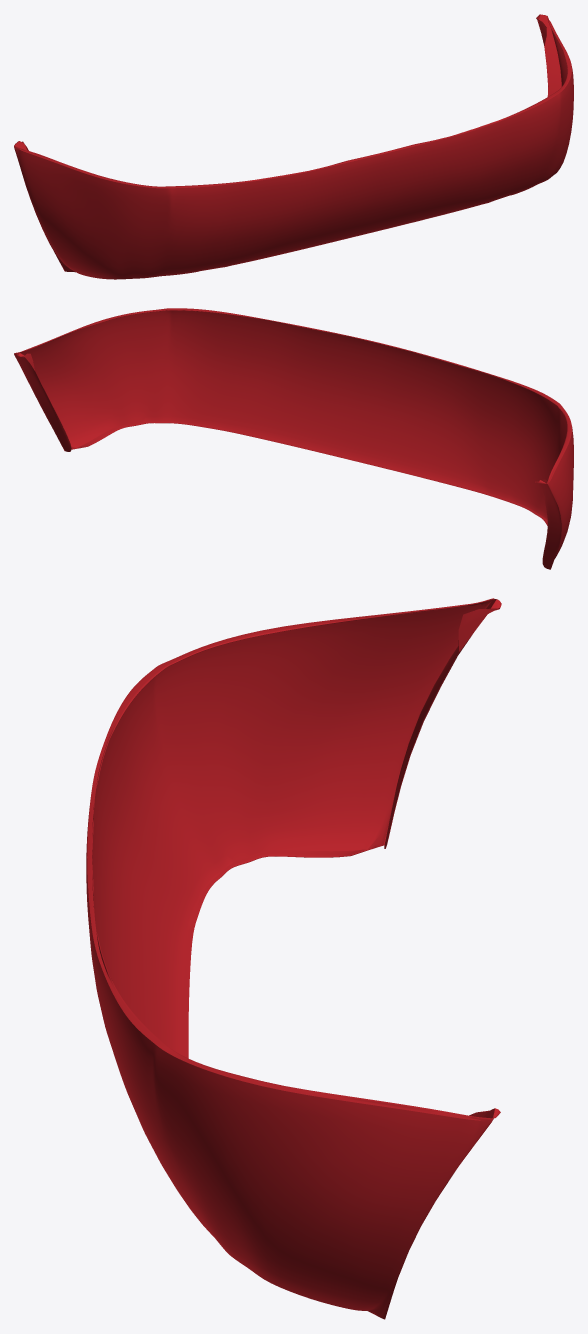
File: pitcrew-2.glb
3 views of the same model, one above another, from view 1: azimuth 30°, elevation 25°; view 2: azimuth 150°, elevation 25°; view 3: azimuth 270°, elevation 25° (orthographic). The views are drawn at different scales.
Parts seen in each view (by area): view 1: Miata_Aero_RearBarPitcrew2; view 2: Miata_Aero_RearBarPitcrew2; view 3: Miata_Aero_RearBarPitcrew2.
Boxes of the visible parts, x1=… form: Miata_Aero_RearBarPitcrew2: x1=14, y1=14, x2=573, y2=279; Miata_Aero_RearBarPitcrew2: x1=14, y1=308, x2=573, y2=569; Miata_Aero_RearBarPitcrew2: x1=86, y1=598, x2=501, y2=1319.
Bounding box in the file's own units: 64.99 × 13.32 × 21.89.
